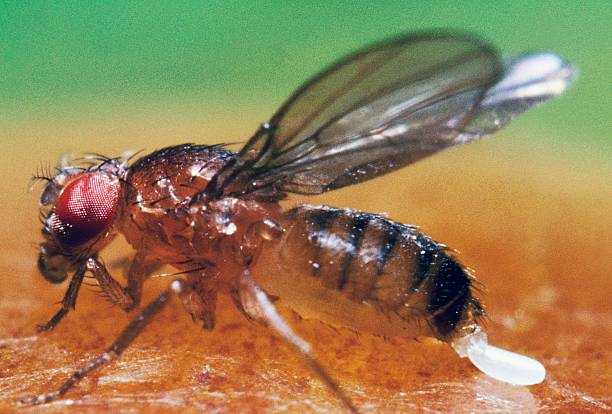Fruit fly: (10, 67, 537, 375)
